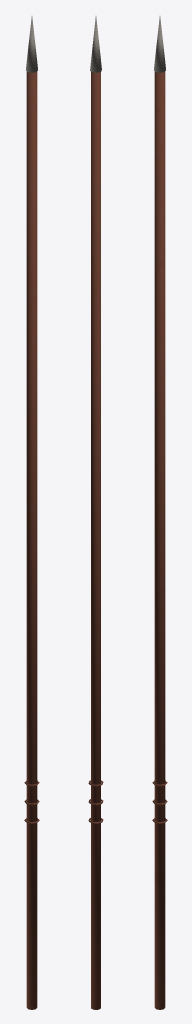
Rendered from pike.fbx.
3 renders of one model, left to right at view 1: azimuth 90°, elevation 25°; view 2: azimuth 150°, elevation 25°; view 3: azimuth 270°, elevation 25°, orthographic.
Parts seen in each view (by area): view 1: pike; view 2: pike; view 3: pike.
Boxes of the visible parts, box(x1,y1,x2,y2) form: pike: box(24, 16, 39, 1009); pike: box(88, 16, 103, 1009); pike: box(152, 16, 167, 1009).
Bounding box in the file's own units: 0.03 × 2.12 × 0.03.
Materials: 2 (1 with a texture image).
